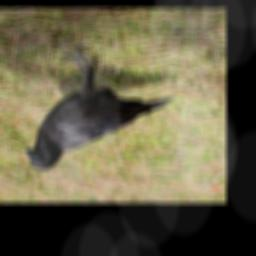Crow: (27, 43, 178, 171)
